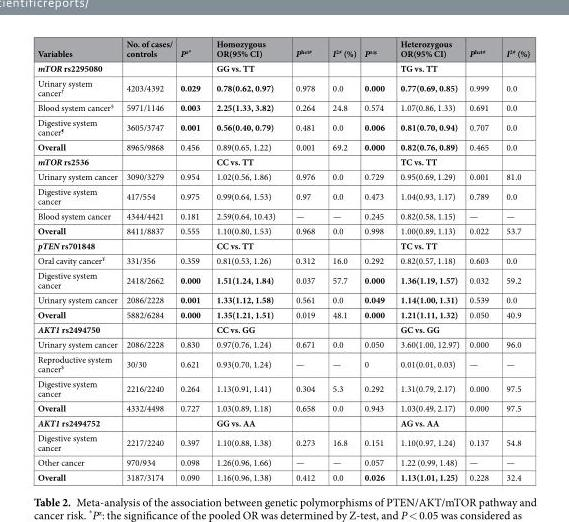table: (36, 37, 529, 482)
table column: (36, 37, 121, 482), (207, 37, 284, 482), (391, 37, 463, 482), (121, 37, 175, 482), (284, 37, 323, 482), (323, 37, 359, 482), (463, 37, 496, 482), (496, 37, 529, 482), (175, 37, 207, 482), (359, 37, 391, 482)
table column header: (36, 37, 529, 60)
table row: (36, 183, 529, 208), (36, 375, 529, 400), (36, 75, 529, 99), (36, 114, 529, 138), (36, 267, 529, 291), (36, 351, 529, 375), (36, 430, 529, 454), (36, 37, 529, 60), (36, 60, 529, 75), (36, 99, 529, 114), (36, 138, 529, 153), (36, 153, 529, 168), (36, 168, 529, 183), (36, 222, 529, 237), (36, 237, 529, 252), (36, 252, 529, 267), (36, 291, 529, 306), (36, 306, 529, 321), (36, 321, 529, 336), (36, 336, 529, 351), (36, 400, 529, 415), (36, 415, 529, 430), (36, 454, 529, 469), (36, 208, 529, 222), (36, 469, 529, 482)
